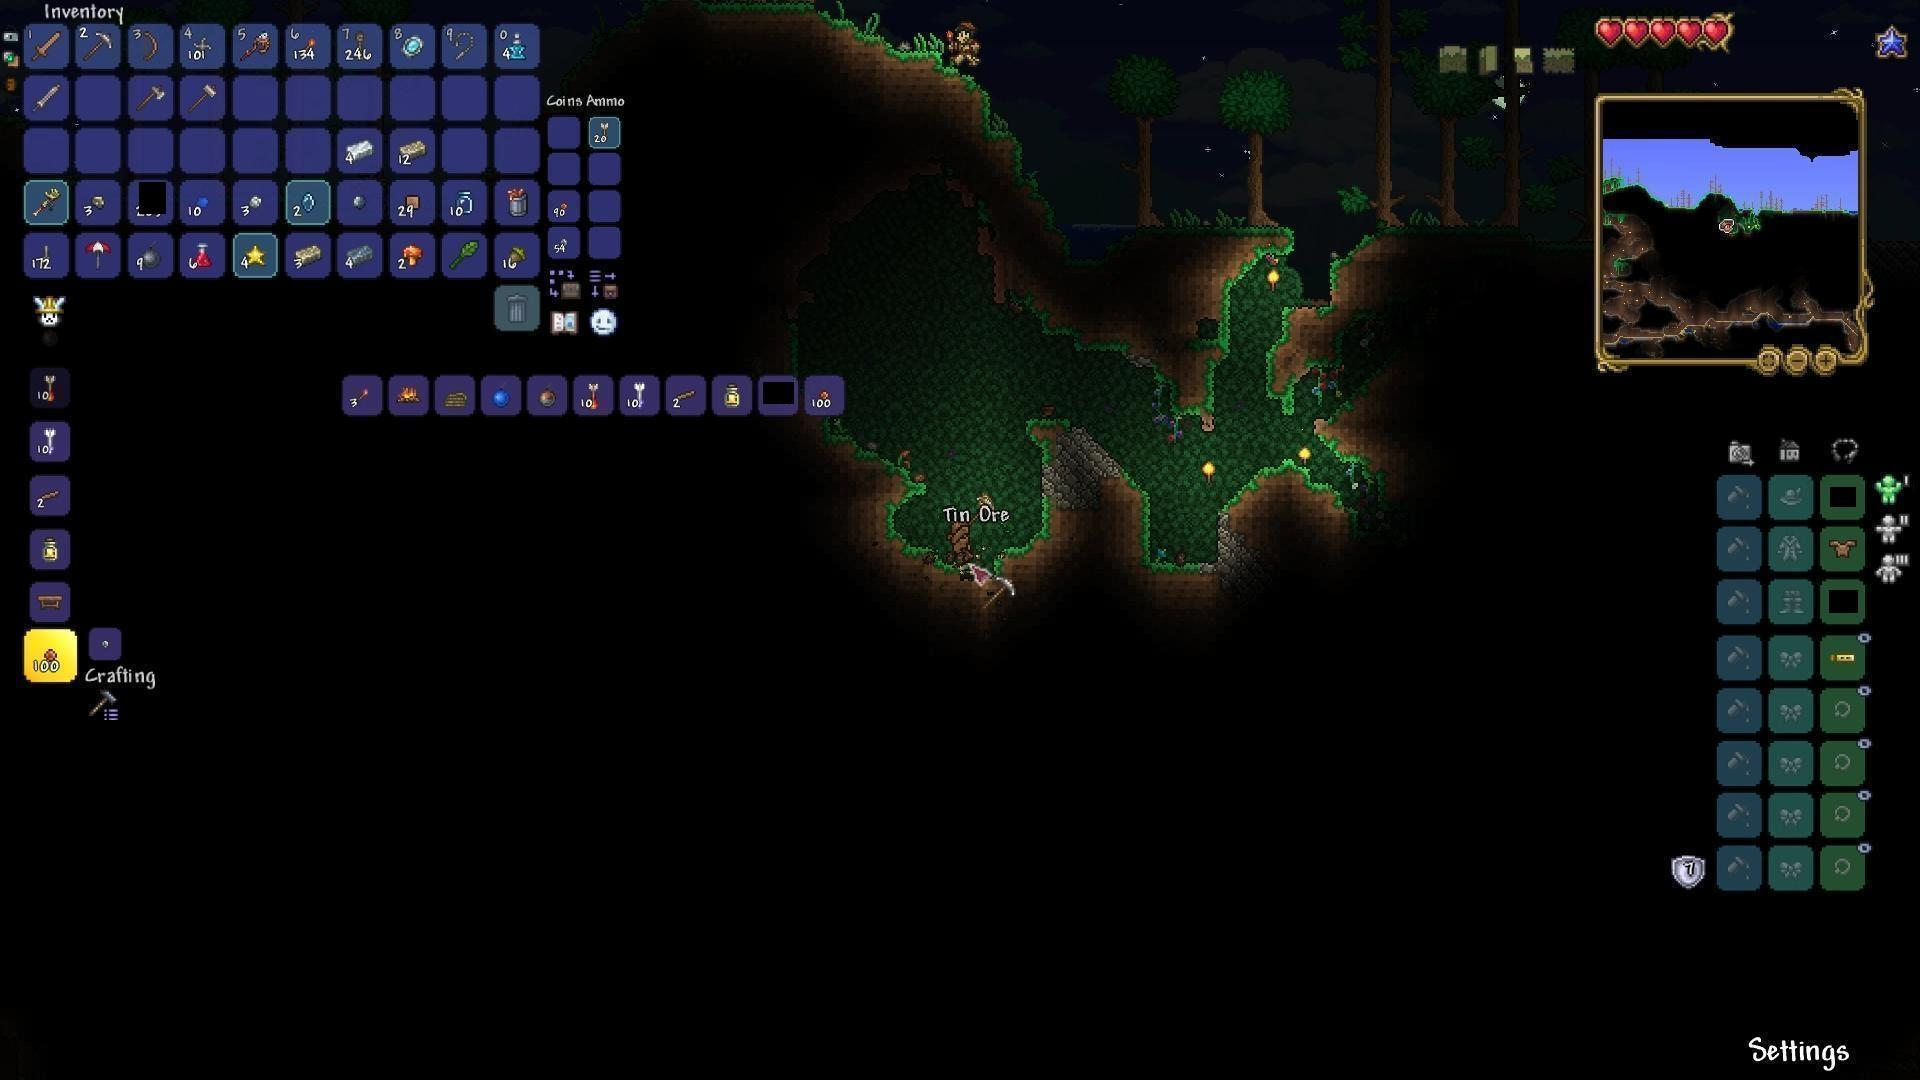breastplate: (1830, 541, 1859, 560)
workbench: (37, 589, 65, 615)
